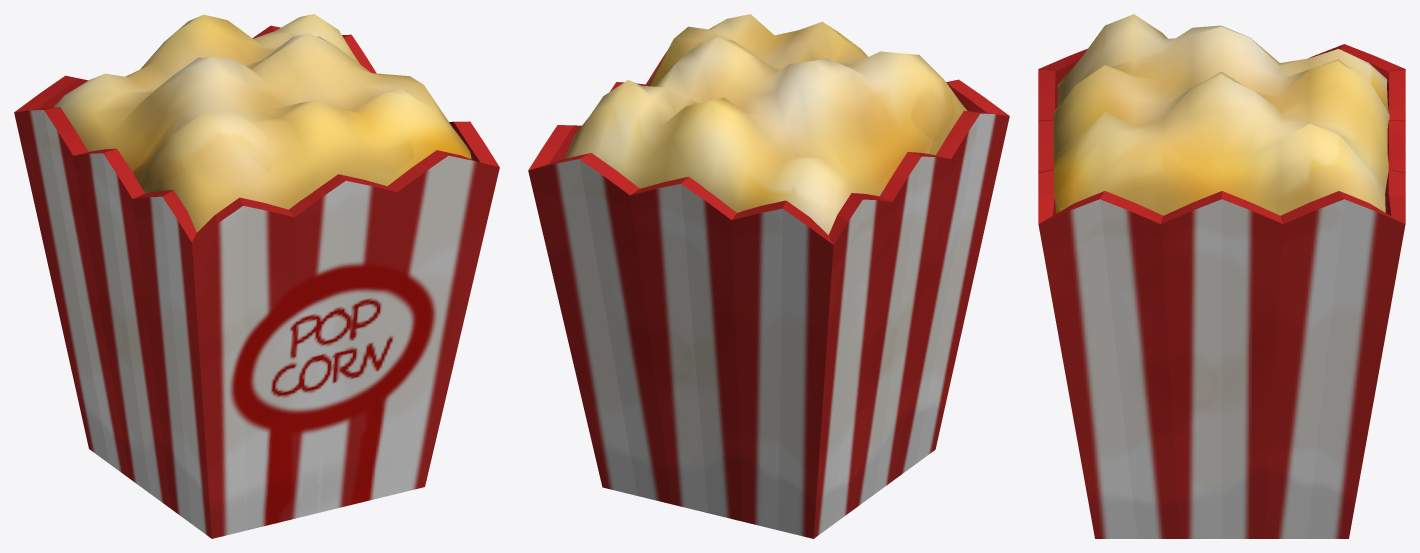
Rendered from Popcorn 1.fbx.
The picture shows the model from 3 angles, left to right: view 1: azimuth 30°, elevation 25°; view 2: azimuth 150°, elevation 25°; view 3: azimuth 270°, elevation 25°; orthographic projection. The views are drawn at different scales.
Visible parts, largest first — view 1: SaltedPopcorn; view 2: SaltedPopcorn; view 3: SaltedPopcorn.
Part boxes in pixels (<box>): SaltedPopcorn: <box>14,14,499,538</box>; SaltedPopcorn: <box>528,14,1009,538</box>; SaltedPopcorn: <box>1038,14,1405,538</box>.
Bounding box in the file's own units: 38.57 × 50.54 × 38.57.
